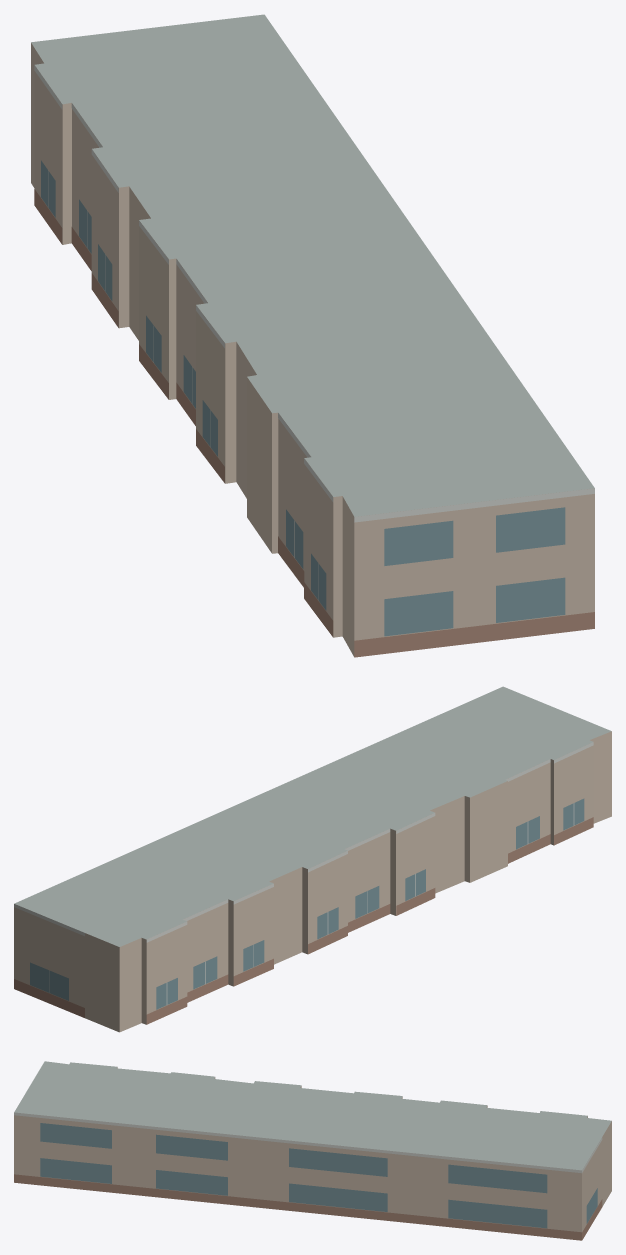
The model's file is survey-upis-32749428.glb.
3 views of the same model, one above another, from view 1: azimuth 30°, elevation 25°; view 2: azimuth 150°, elevation 25°; view 3: azimuth 270°, elevation 25° (orthographic). The views are drawn at different scales.
Parts seen in each view (by area): view 1: survey-upis-32749428.tmp; view 2: survey-upis-32749428.tmp; view 3: survey-upis-32749428.tmp.
Boxes of the visible parts, box(x1,y1,x2,y2) form: survey-upis-32749428.tmp: box(31, 14, 594, 657); survey-upis-32749428.tmp: box(14, 686, 611, 1032); survey-upis-32749428.tmp: box(14, 1061, 611, 1240).
Size of the model in its own units: 20.33 by 6.1 by 47.04.
